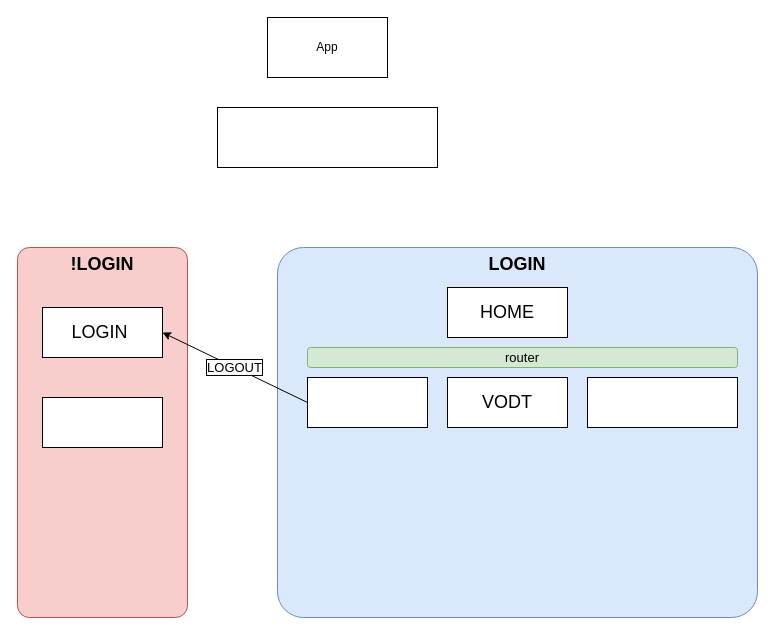
This 775x635 diagram has some shape labels left out. The shapes that lost their labels are listed below. From the top down, each one's box as (x1, y1, x2, y2) in pixels, then its label:
(216, 106, 438, 168): Wrapper (listen for auth changes)
(42, 396, 162, 448): FORGET PASSWORD
(306, 376, 428, 428): PROFILE
(586, 376, 738, 428): APPOINTMENT
